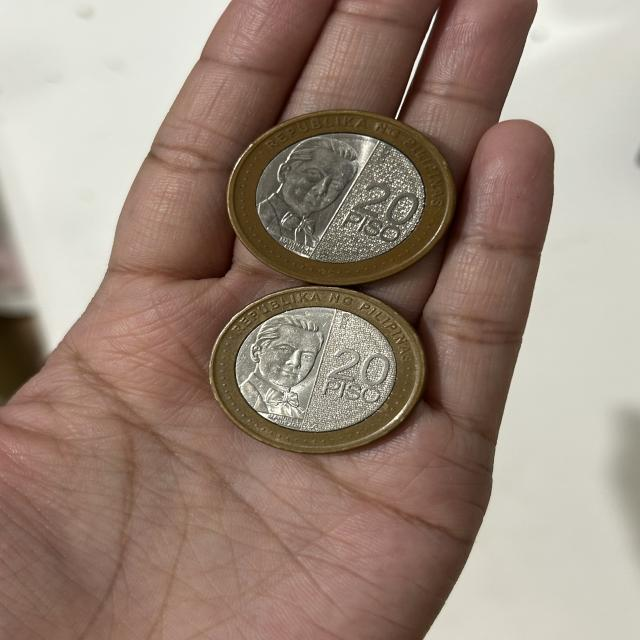20_New_Front: (311, 336, 391, 422), (342, 175, 418, 253)
